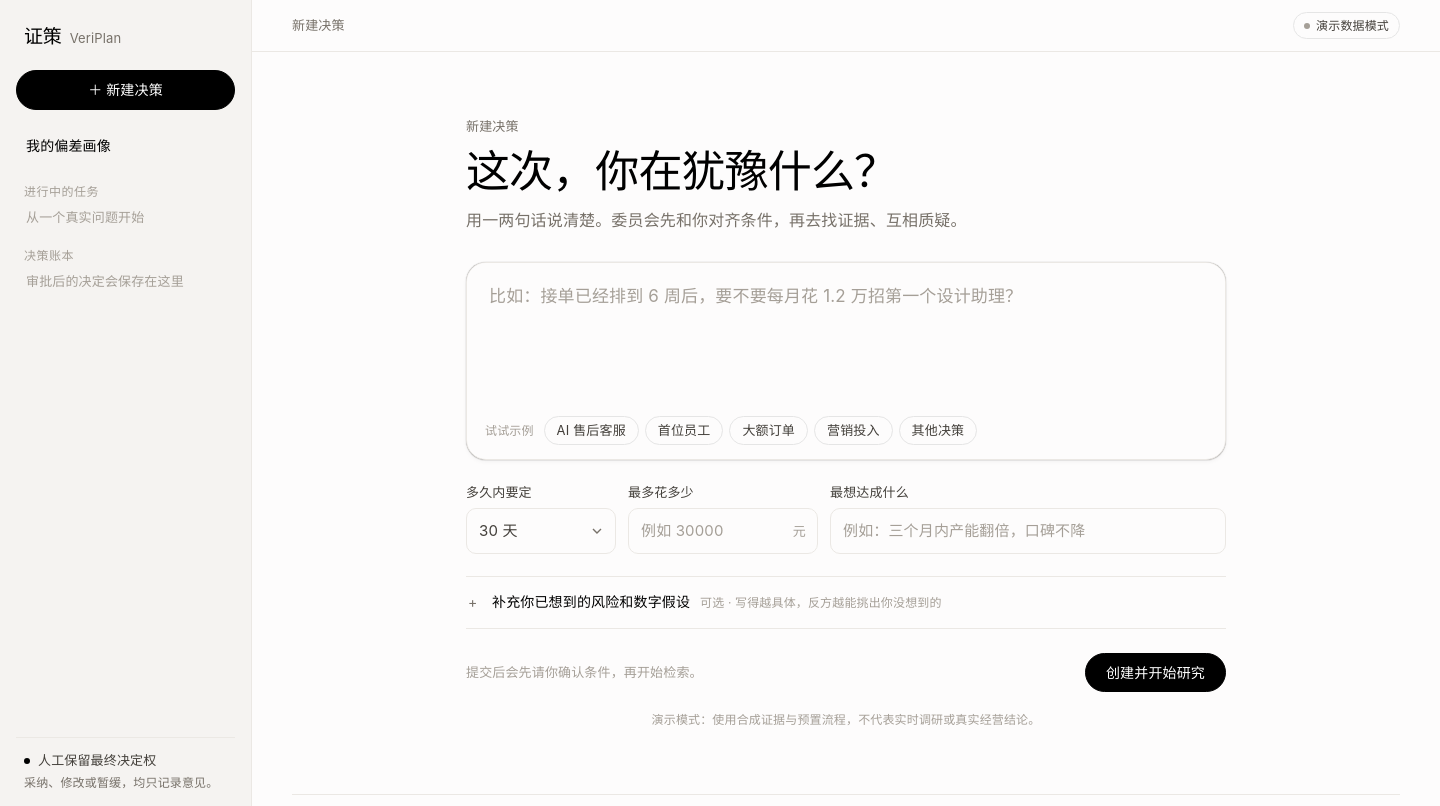
decision workspace › creates a labelled demo and requires clarification confirmation before research
The image size is (1440, 806).
Click the button with aria-label "填入 AI 售后客服示例". click: (591, 430)
box: [544,416,639,445]
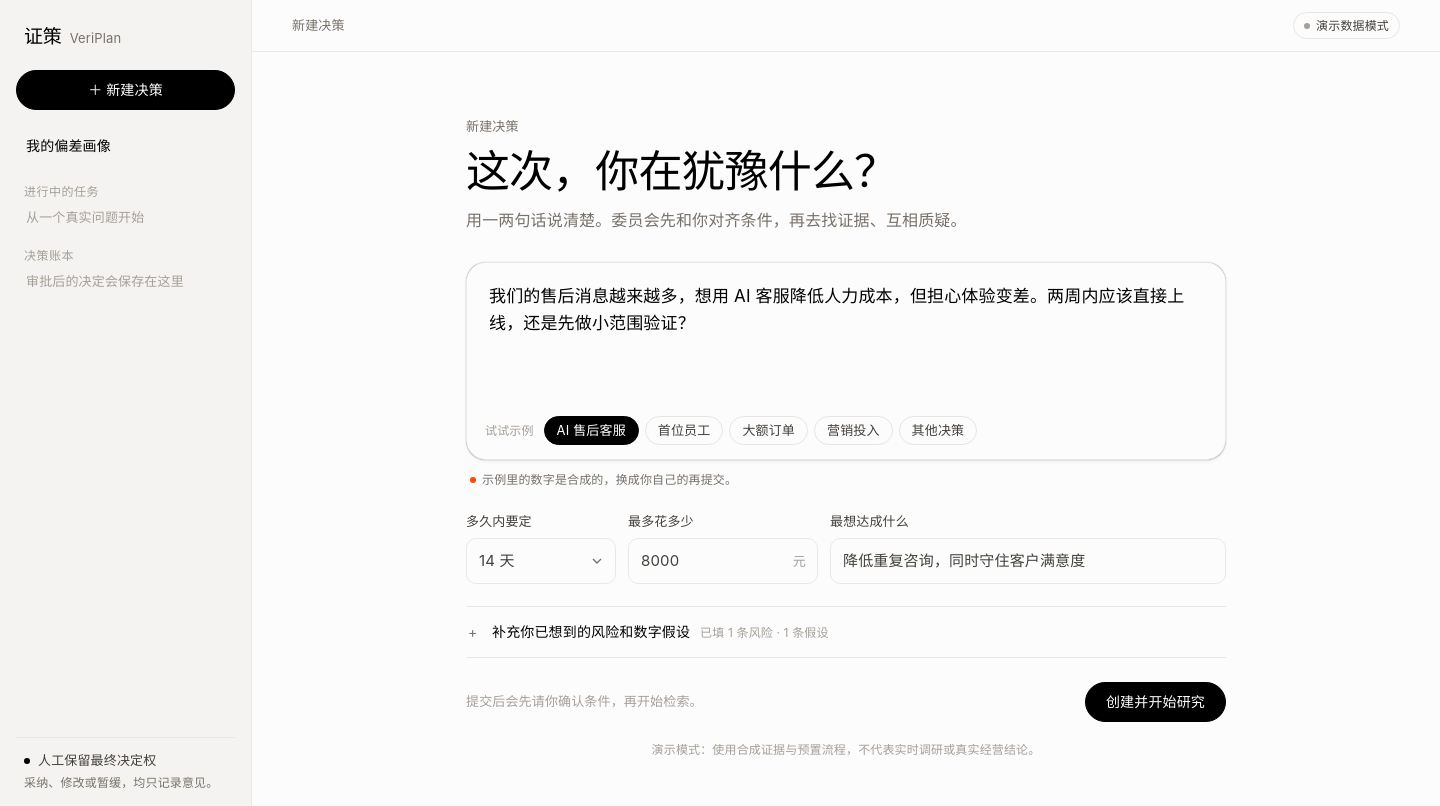
Replace the text in the text box named "经营决策问题" with "我们是否应该先小范围验证 AI 售后客服？". click: (846, 331)
box: [467,263,1225,400]
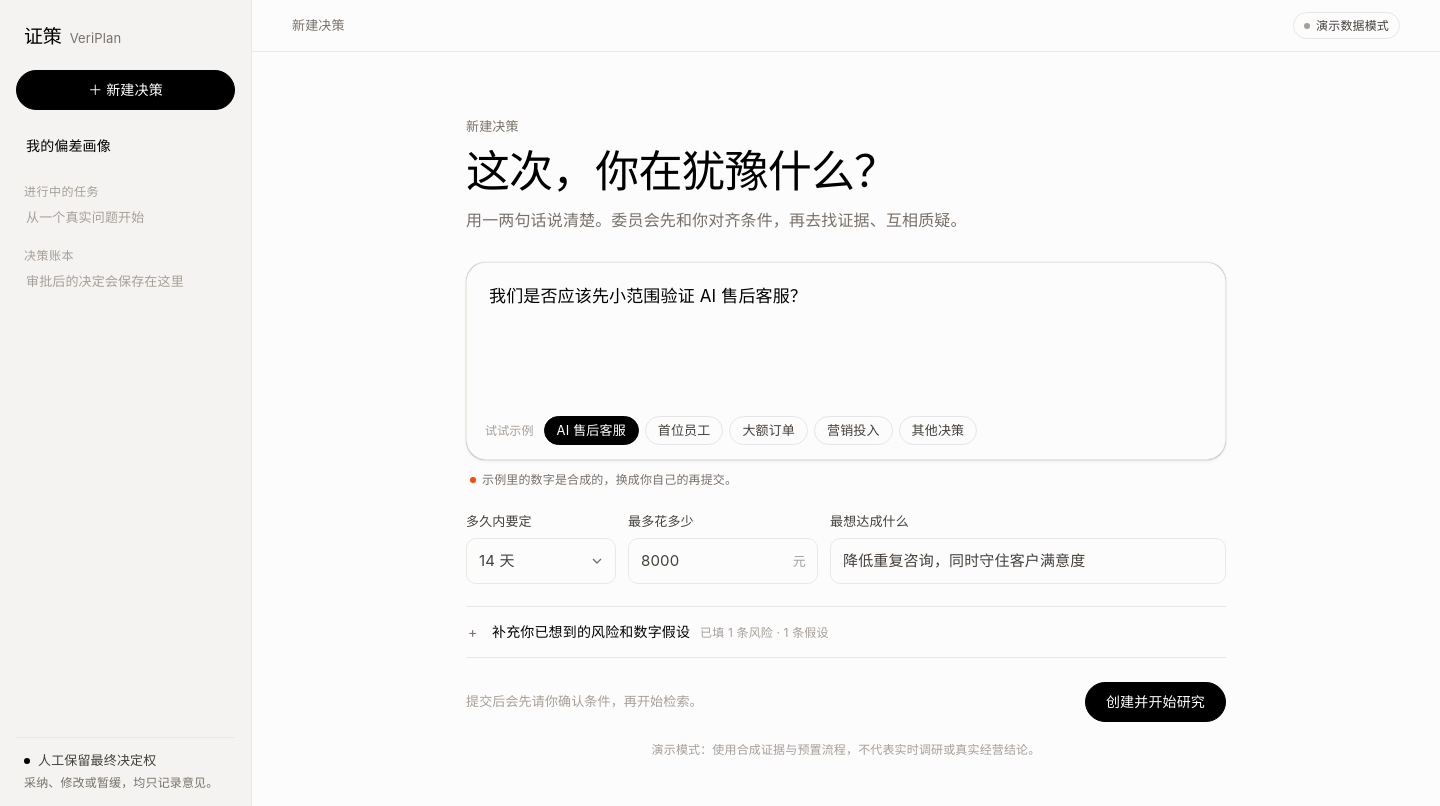
Click the button "创建并开始研究". click: (1155, 702)
box: [1085,682,1226,722]
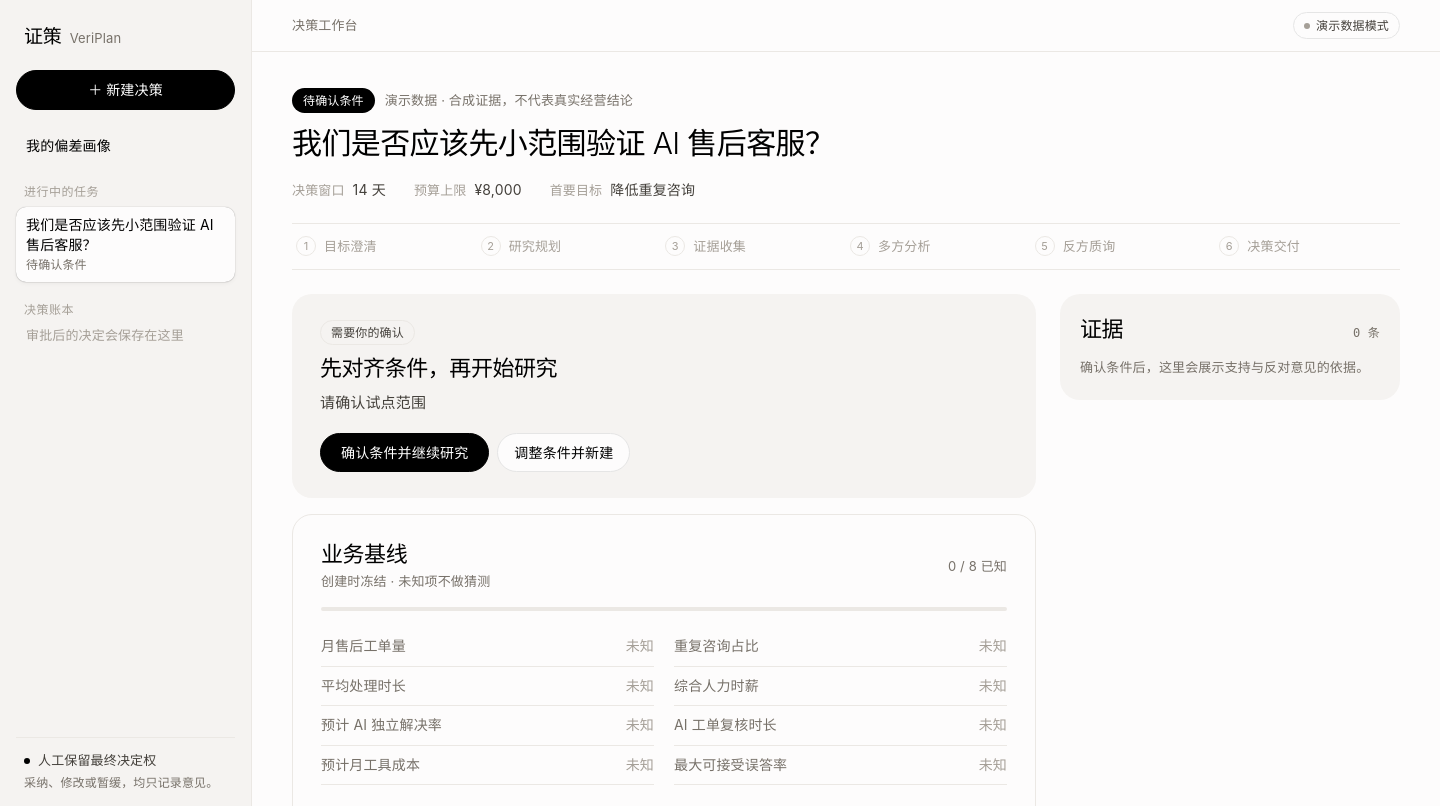
Check: the text "演示数据模式" is shown, box [1293,12,1400,39]
Check: the button "确认条件并继续研究" is shown
Click the button "确认条件并继续研究". click: (405, 452)
box: [320,433,489,472]
(page scrolled)
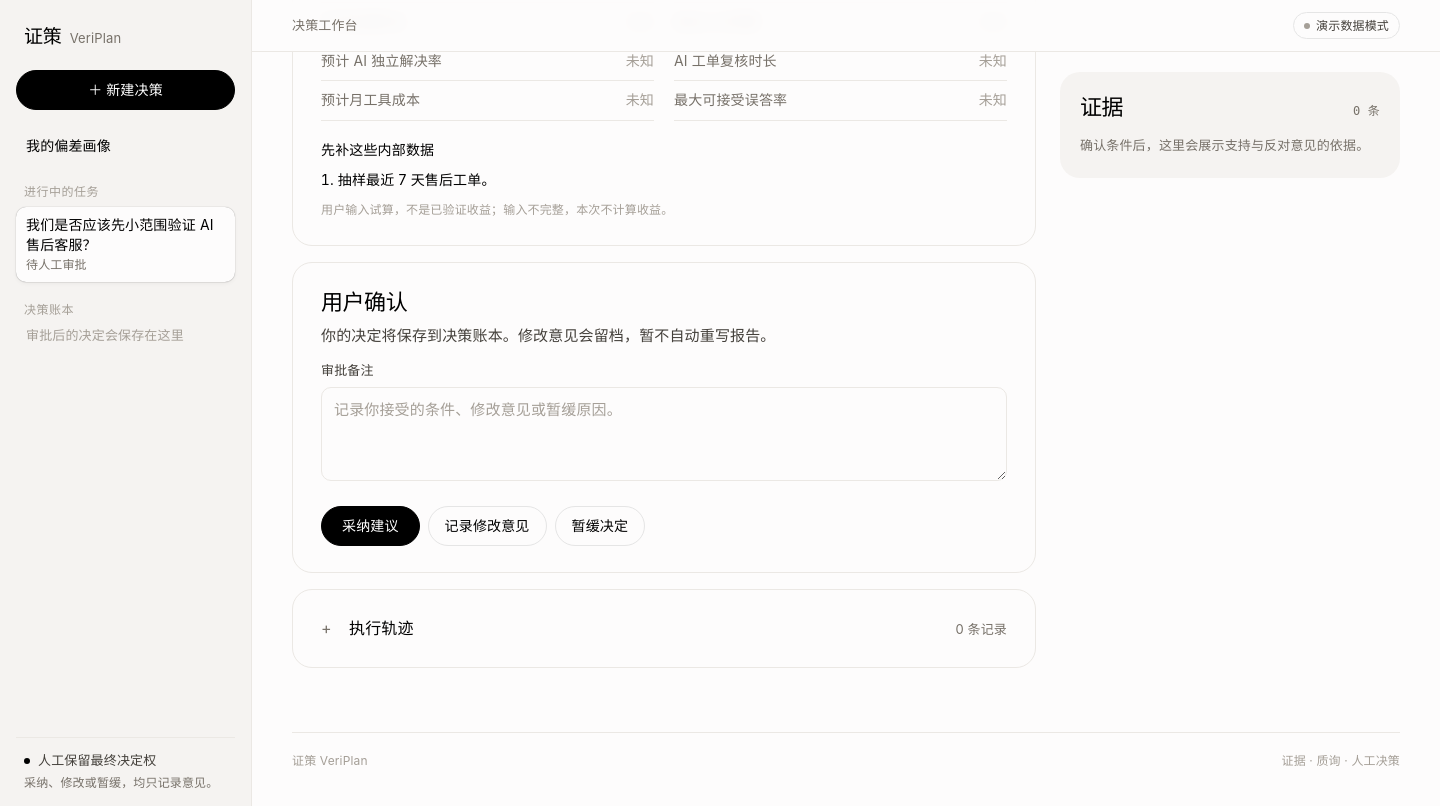
Check: the button "采纳建议" is shown, box [321,506,420,546]
